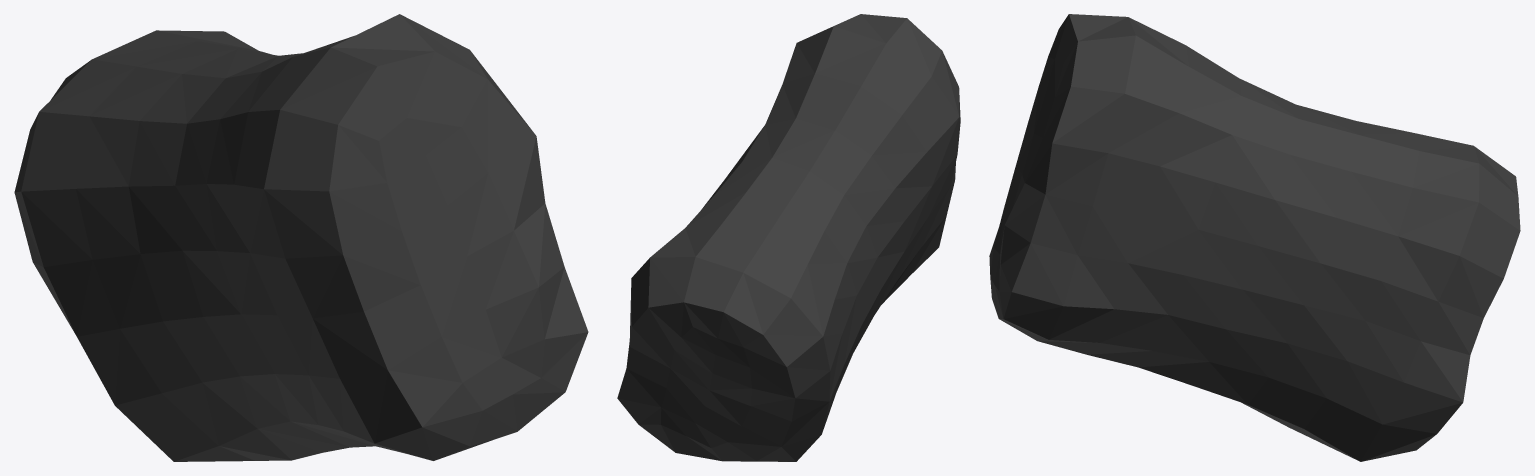
The picture shows the model from 3 angles, left to right: view 1: azimuth 30°, elevation 25°; view 2: azimuth 150°, elevation 25°; view 3: azimuth 270°, elevation 25°; orthographic projection. The views are drawn at different scales.
Parts seen in each view (by area): view 1: SB_5; view 2: SB_5; view 3: SB_5.
Boxes of the visible parts, left/top/right/bottom form: SB_5: left=14, top=14, right=588, bottom=461; SB_5: left=617, top=14, right=960, bottom=461; SB_5: left=989, top=14, right=1520, bottom=461.
Size of the model in its own units: 0.649 by 1.15 by 1.33.
1 material, 1 textured.
